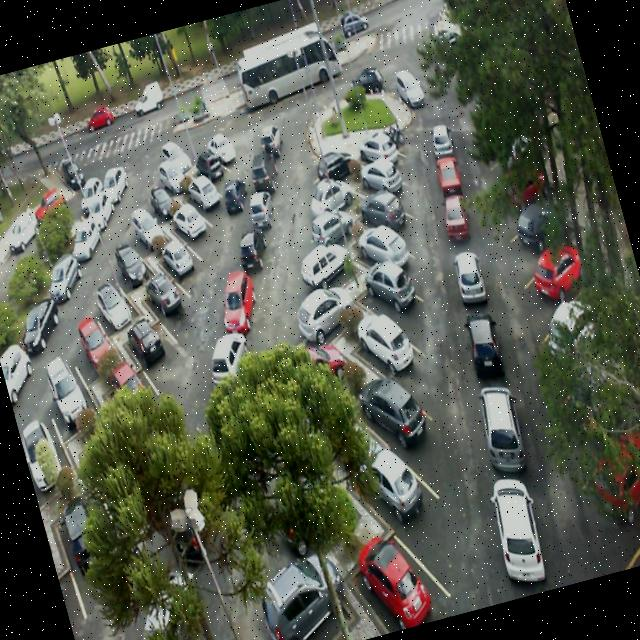occupied: (337, 493, 443, 634), (348, 429, 452, 558), (243, 532, 363, 640), (347, 358, 439, 476), (350, 302, 432, 398), (34, 340, 102, 436), (344, 254, 421, 337), (54, 288, 124, 378), (280, 276, 358, 352), (116, 298, 180, 382), (349, 209, 420, 284), (80, 251, 142, 335), (136, 255, 193, 331), (294, 228, 361, 292), (288, 197, 356, 258), (148, 218, 205, 289), (351, 174, 414, 238), (103, 225, 160, 294), (354, 146, 414, 203), (302, 164, 363, 218), (173, 156, 226, 216), (120, 193, 170, 256), (166, 190, 218, 250), (358, 122, 415, 176), (147, 140, 196, 200), (298, 136, 356, 186), (135, 167, 183, 227), (188, 135, 232, 192)
